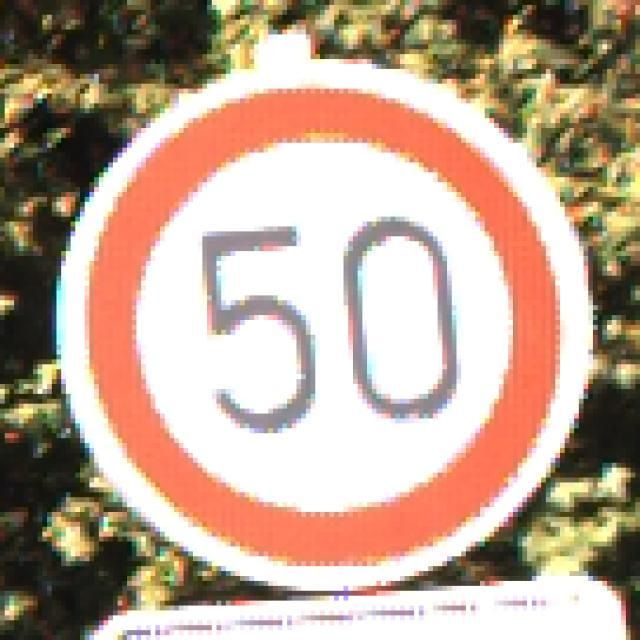speed limit 50: (55, 63, 595, 592)
